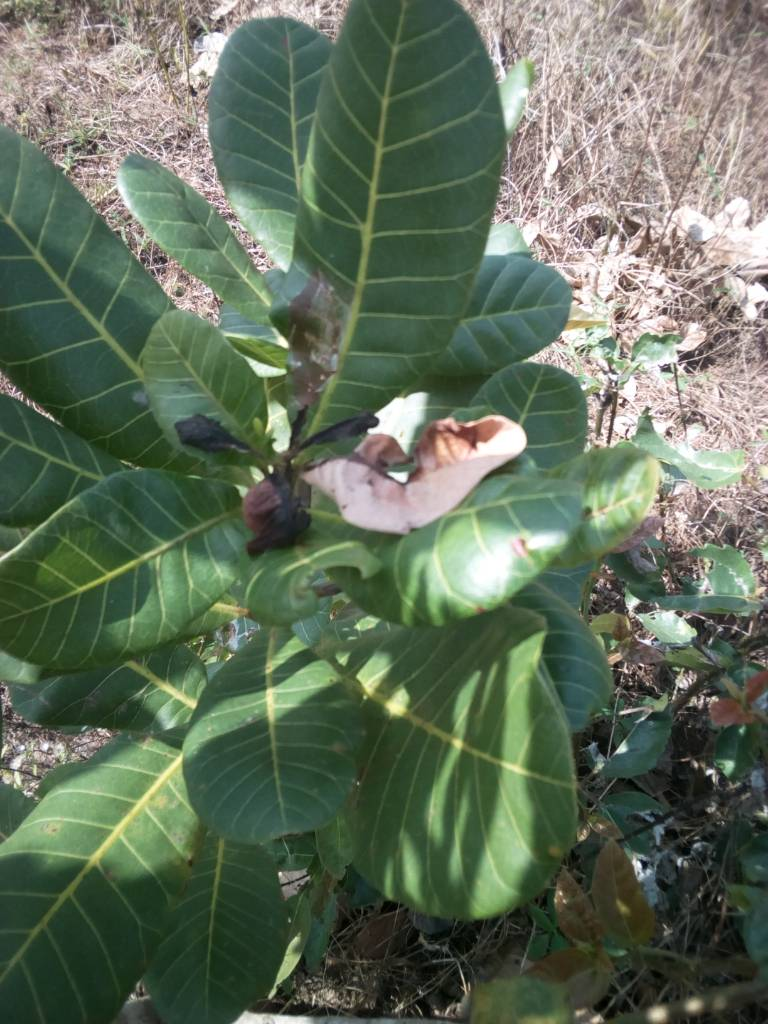Dessèchement des bourgeons: (244, 460, 321, 557), (180, 417, 260, 463)
